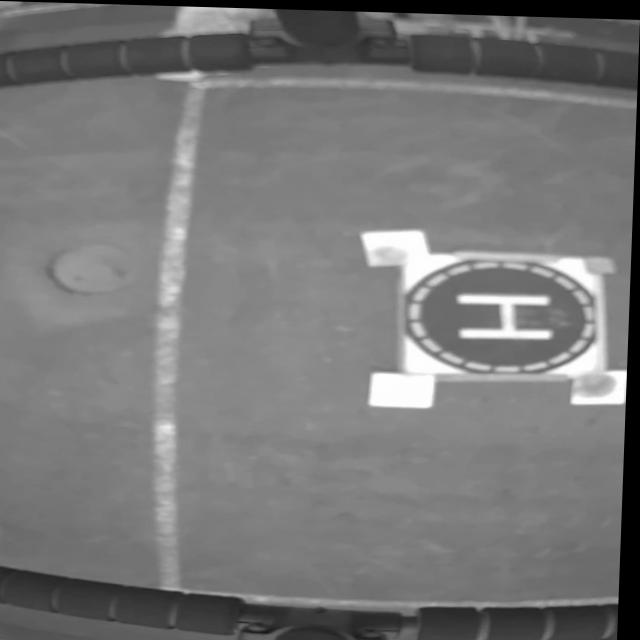Helipad: (459, 288, 554, 337)
